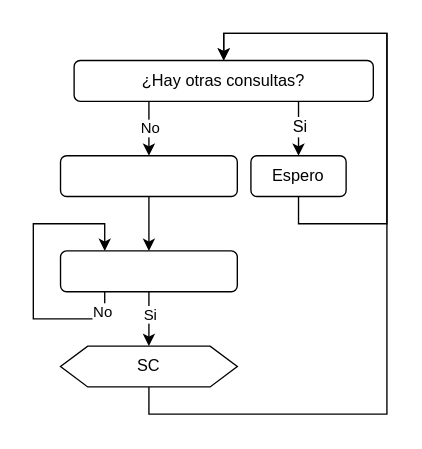
Some shapes in this 422 by 449 pixel diagram are drawn without their labels. The box of each missing label's shape, as (x1, y1, x2, y2) in pixels:
Pido acceso a SC a otros nodos: (59, 154, 237, 197)
¿ Tengo todas las confirmaciones?: (59, 250, 237, 292)
